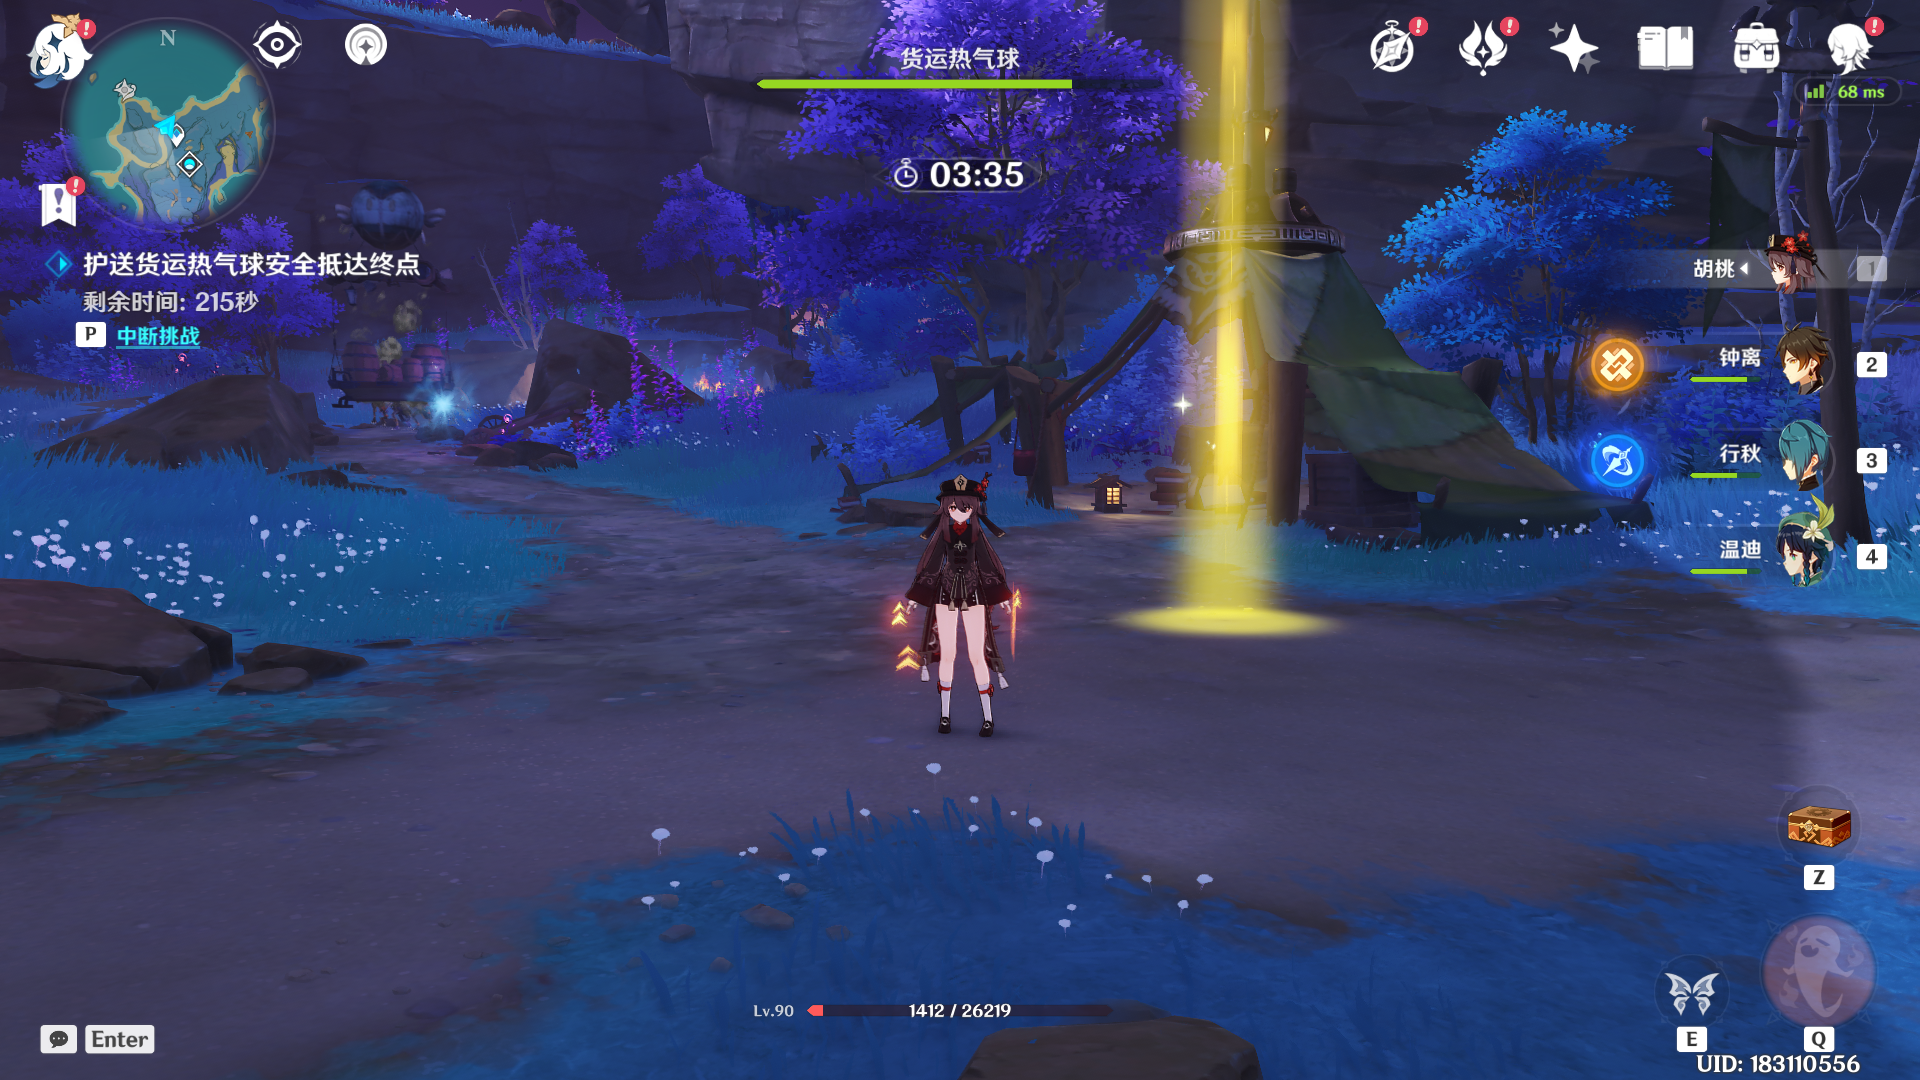character: (862, 456, 1076, 756)
